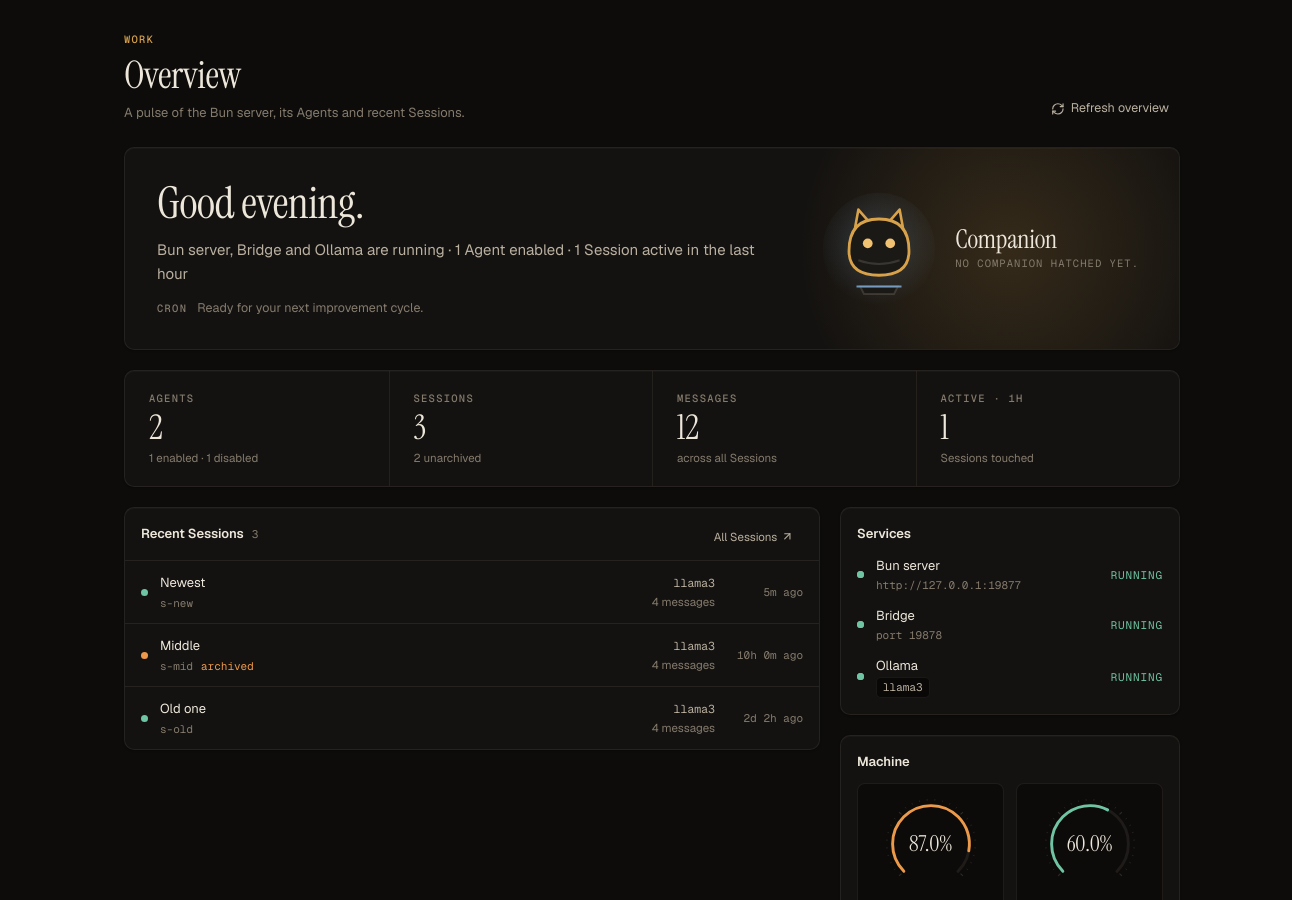
OverviewPage › opens a Session in the Sessions page when its row is chosen
Click the button "Middle" at (180, 646), box left=125, top=624, right=819, bottom=686
(page scrolled)
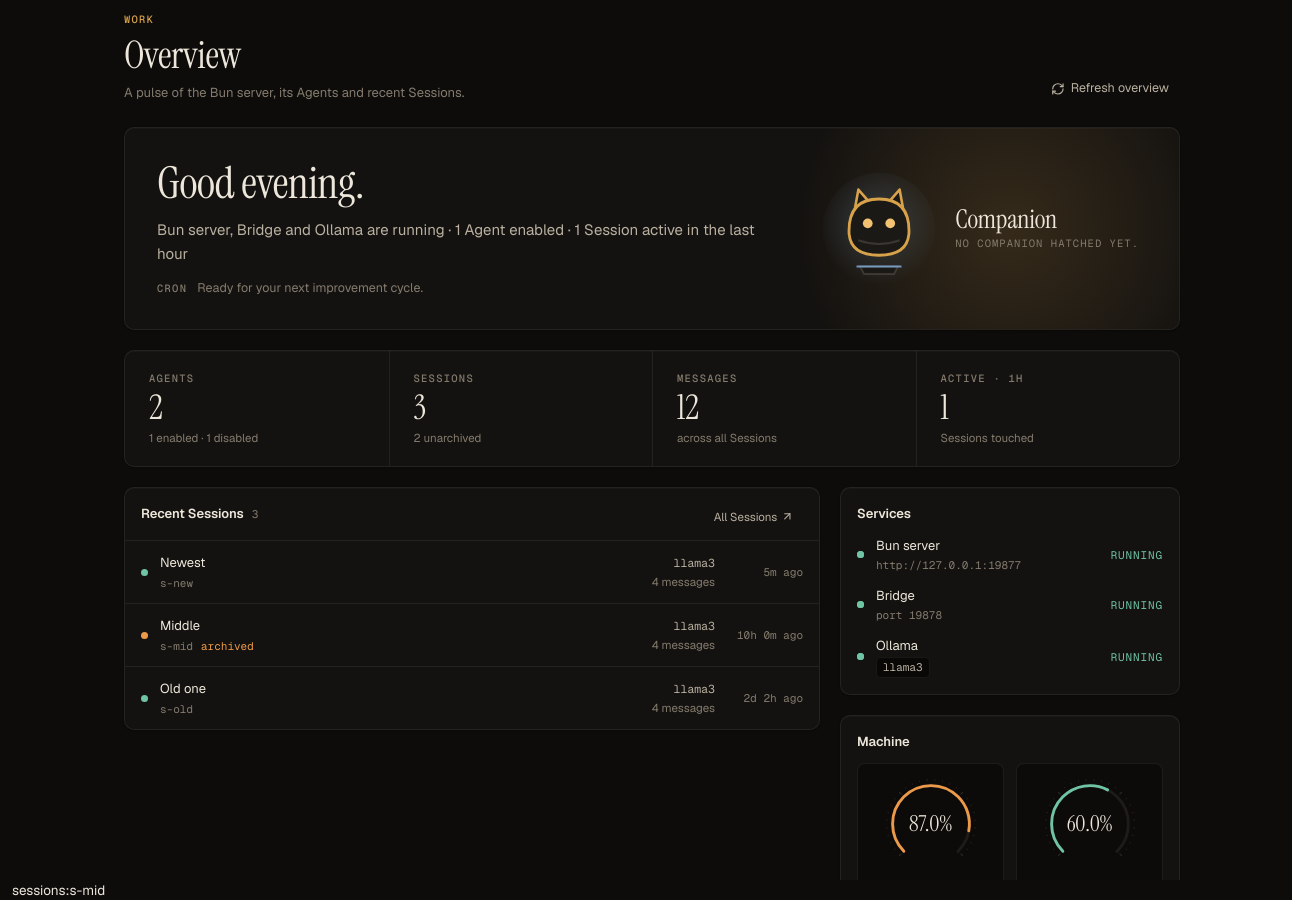
expect the text named "route" reads "sessions:s-mid": met, box left=12, top=881, right=105, bottom=899
